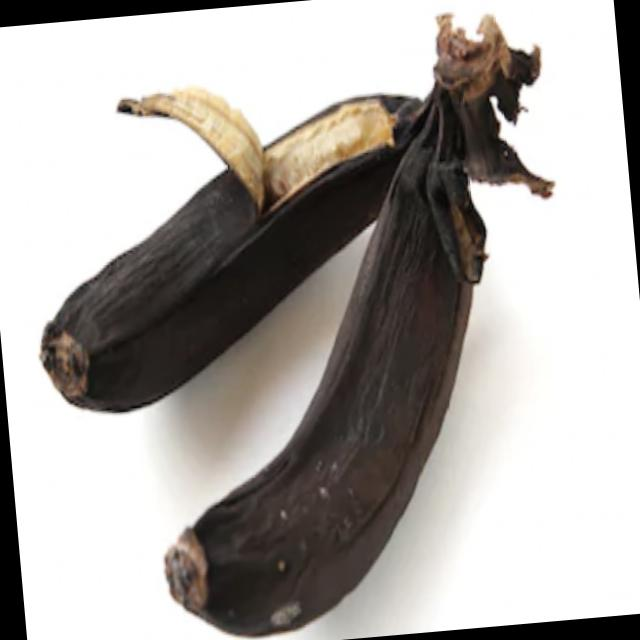rotten-banana: (135, 170, 541, 640), (26, 28, 468, 424)
